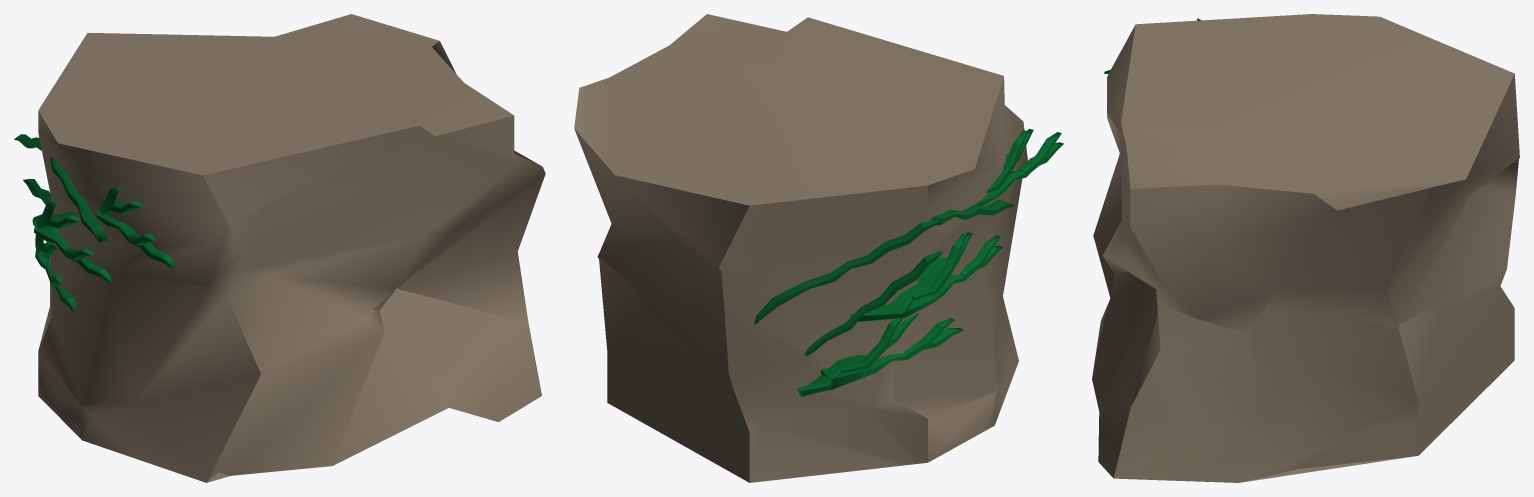
The model's file is onerick.fbx.
3 renders of one model, left to right at view 1: azimuth 30°, elevation 25°; view 2: azimuth 150°, elevation 25°; view 3: azimuth 270°, elevation 25°, orthographic. The views are drawn at different scales.
Parts seen in each view (by area): view 1: pPlane16; view 2: pPlane16; view 3: pPlane16.
Boxes of the visible parts, bbox=[...] form: pPlane16: bbox=[14, 14, 545, 482]; pPlane16: bbox=[574, 14, 1063, 482]; pPlane16: bbox=[1092, 14, 1519, 482].
Bounding box in the file's own units: 9.69 × 6.92 × 8.59.
